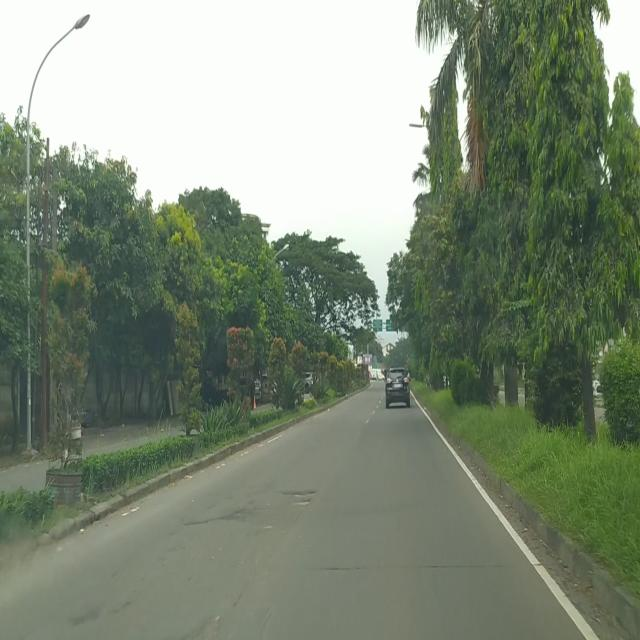Sewer Cover: (303, 560, 536, 576), (278, 488, 317, 497)
